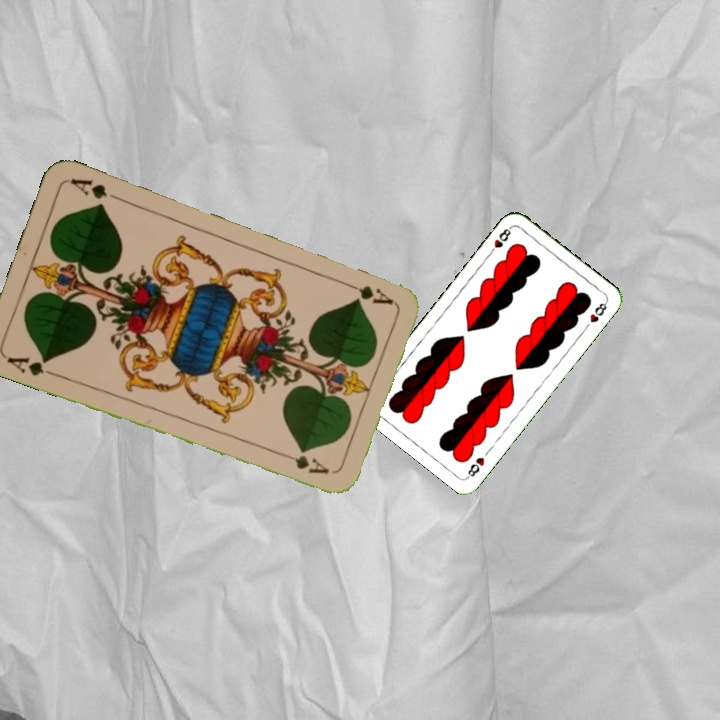GA: (339, 278, 396, 307), (2, 353, 60, 380)
H8: (485, 223, 514, 258), (463, 453, 487, 481)
